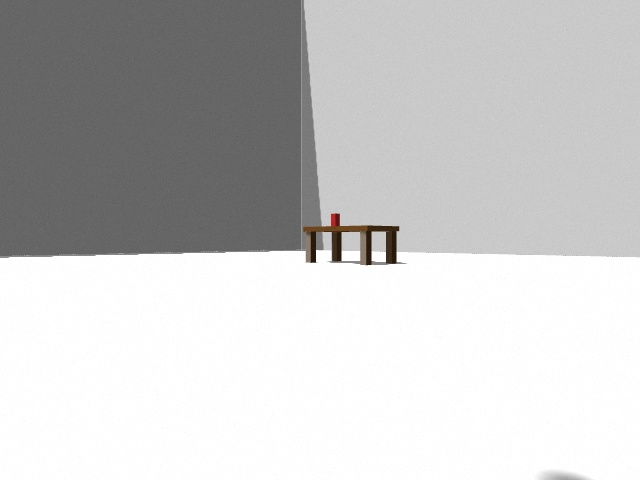red_cube: (331, 214, 336, 227)
